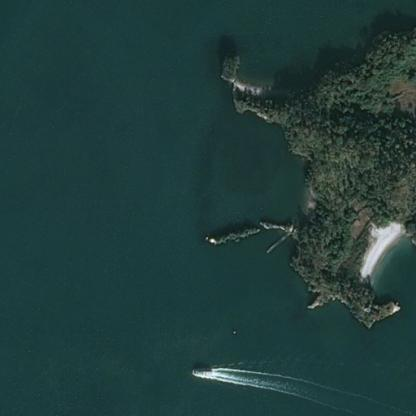ship: (184, 360, 215, 383)
